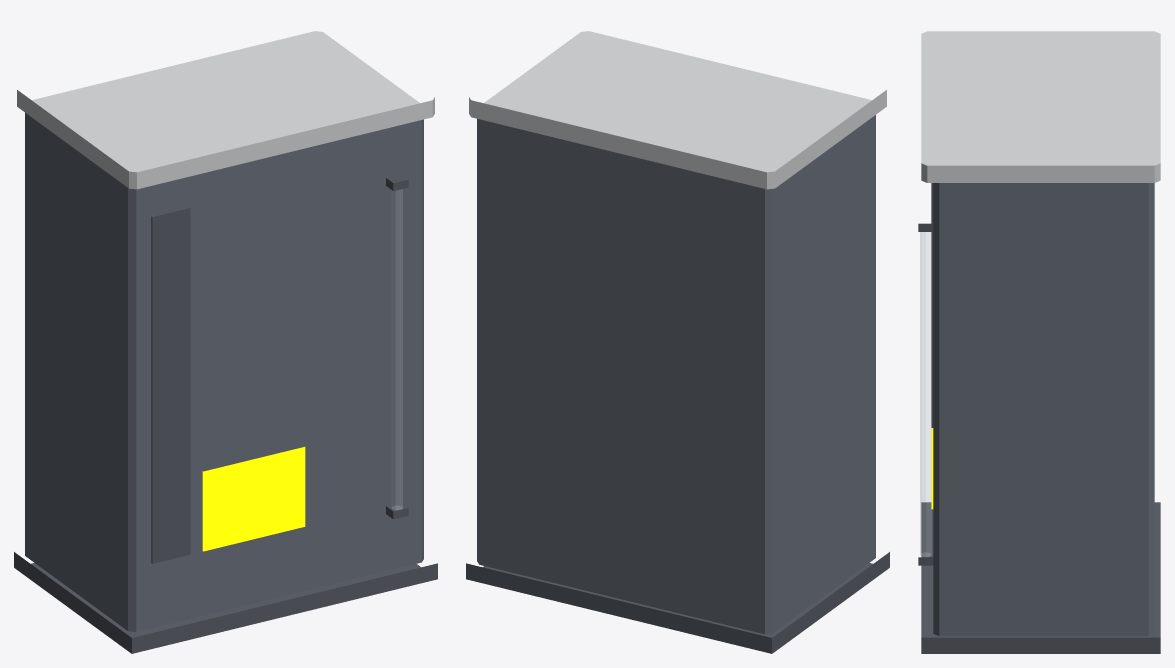
The model's file is ext_hydro_pump_tank_04.glb.
The picture shows the model from 3 angles, left to right: view 1: azimuth 30°, elevation 25°; view 2: azimuth 150°, elevation 25°; view 3: azimuth 270°, elevation 25°; orthographic projection.
Visible parts, largest first — view 1: Cabinet, Roof, Doors, Skid, Valve_Hatch, Sight_Tube; view 2: Cabinet, Roof, Skid; view 3: Cabinet, Roof, Skid, Sight_Tube, Doors.
Boxes of the visible parts, x1=… form: Cabinet: x1=25, y1=113, x2=423, y2=632; Roof: x1=17, y1=31, x2=434, y2=189; Doors: x1=151, y1=208, x2=190, y2=563; Skid: x1=14, y1=552, x2=437, y2=653; Valve_Hatch: x1=202, y1=447, x2=305, y2=551; Sight_Tube: x1=392, y1=189, x2=402, y2=509; Cabinet: x1=477, y1=115, x2=875, y2=634; Roof: x1=469, y1=31, x2=886, y2=189; Skid: x1=466, y1=552, x2=889, y2=653; Cabinet: x1=933, y1=183, x2=1154, y2=636; Roof: x1=921, y1=31, x2=1160, y2=182; Skid: x1=921, y1=502, x2=1160, y2=653; Sight_Tube: x1=920, y1=232, x2=931, y2=556; Doors: x1=931, y1=183, x2=933, y2=427.
Size of the model in its own units: 1.2 by 1.8 by 0.81.
